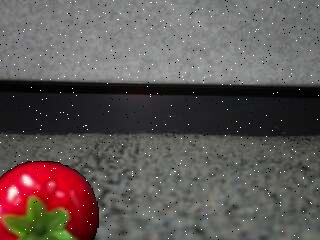Tomato: (0, 160, 102, 240)
